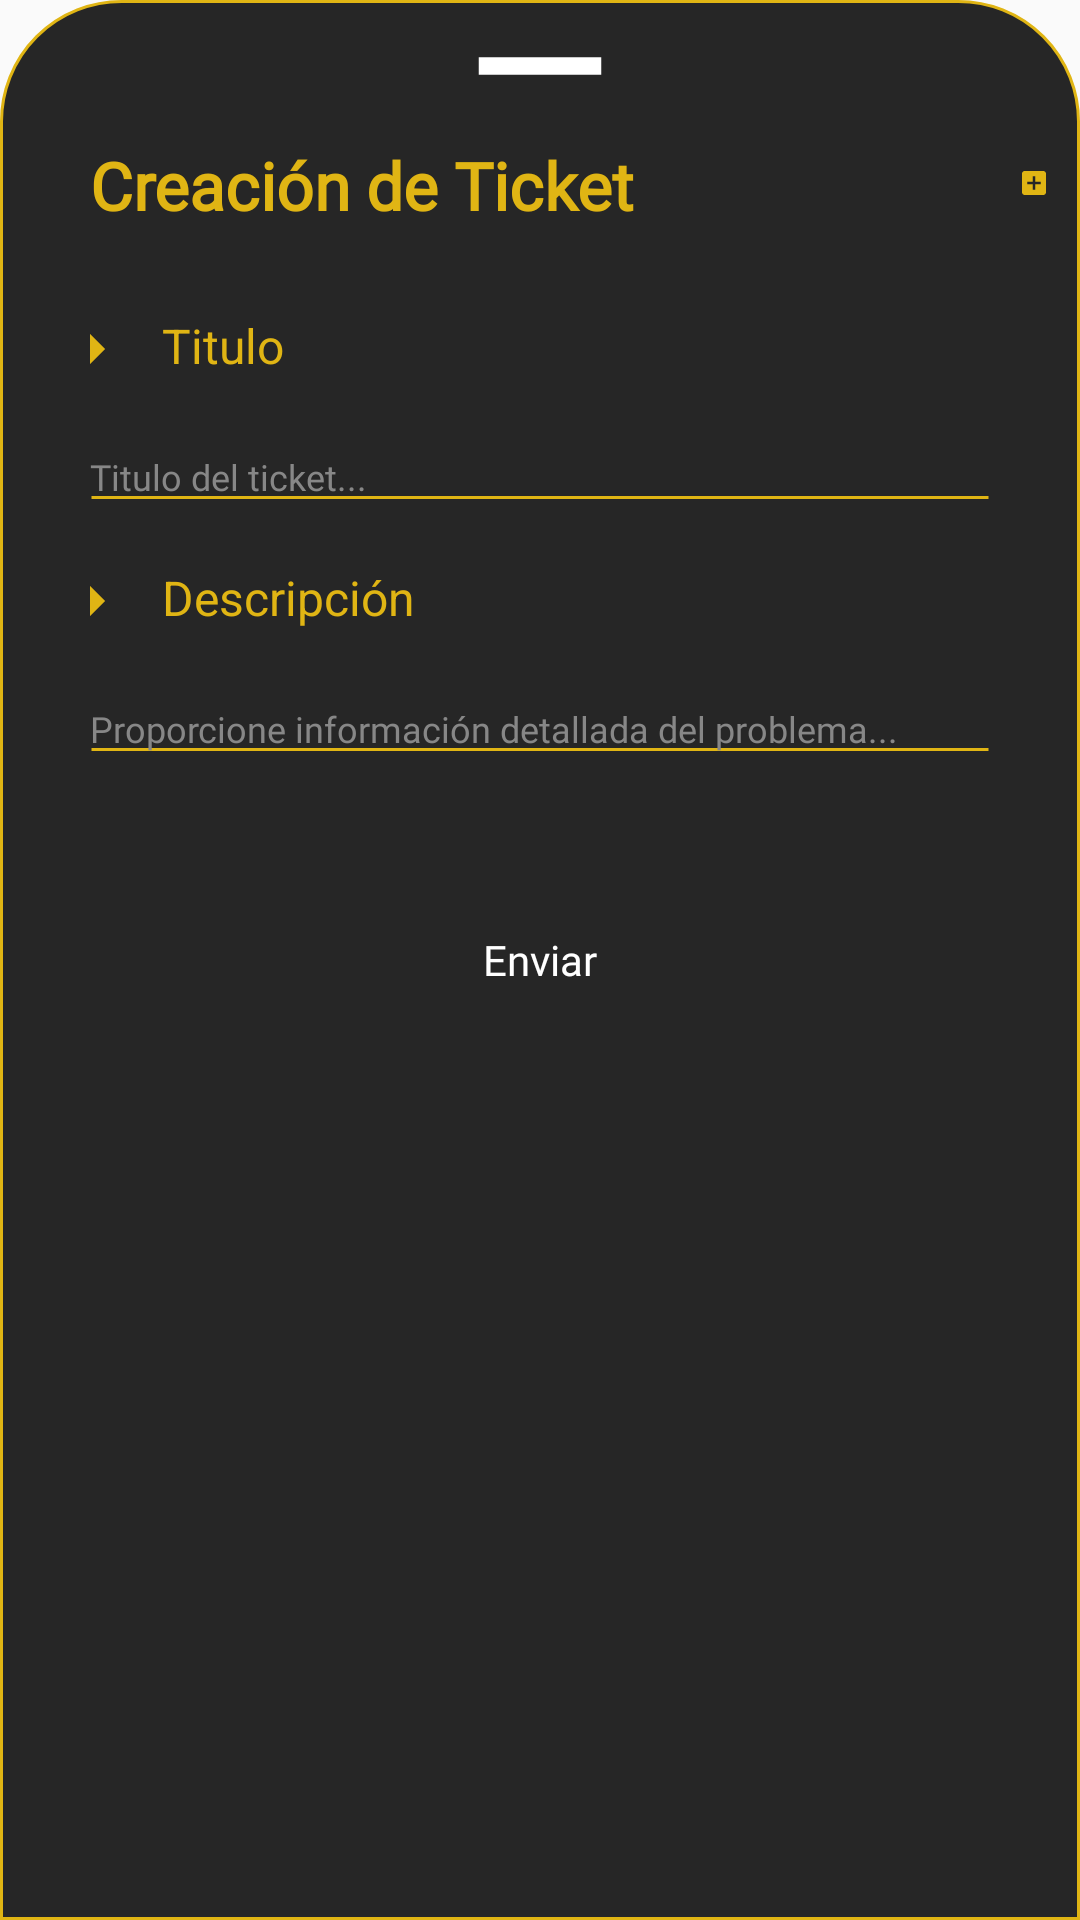

Icon click points for this 1080x1920 phone screenshot, format point (x, y):
add box: point (1034, 183)
arrow right: point (97, 349), point (97, 601)
